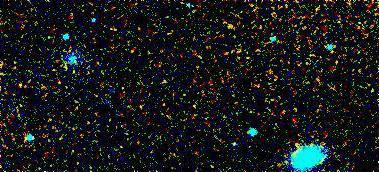star: (215, 12, 245, 42)
